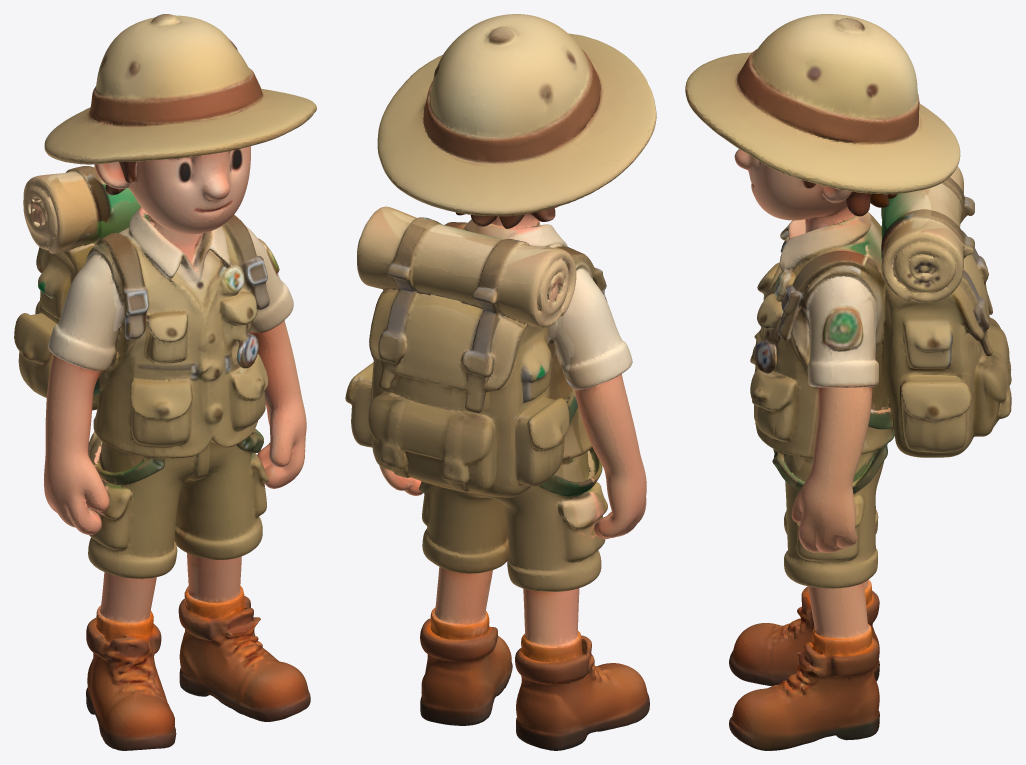
Rendered from human_01-static-v001.glb.
3 renders of one model, left to right at view 1: azimuth 30°, elevation 25°; view 2: azimuth 150°, elevation 25°; view 3: azimuth 270°, elevation 25°, orthographic. The views are drawn at different scales.
Parts seen in each view (by area): view 1: geometry_0; view 2: geometry_0; view 3: geometry_0.
Boxes of the visible parts, x1,y1,x2,y2 form: geometry_0: (14,14,316,750); geometry_0: (345,14,656,750); geometry_0: (685,14,1011,750).
Bounding box in the file's own units: 0.0587 × 0.15 × 0.0649.
1 material, 1 textured.
